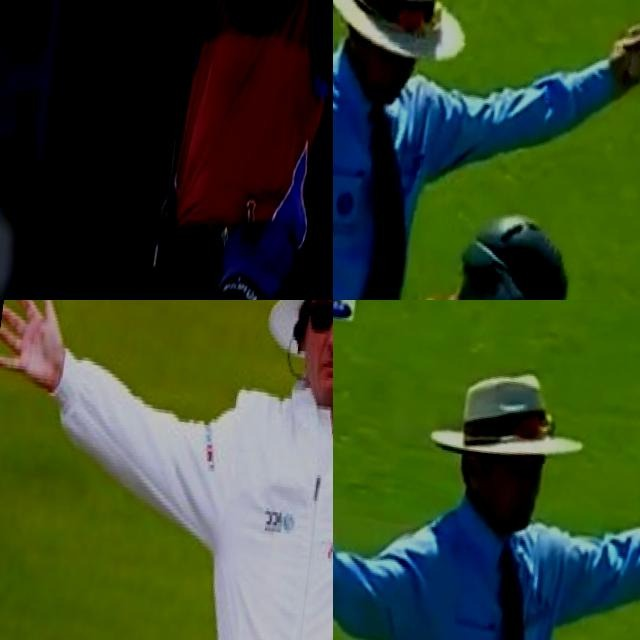Six: (104, 0, 333, 300)
Wide: (0, 300, 333, 640), (333, 332, 640, 640), (333, 0, 640, 286)
